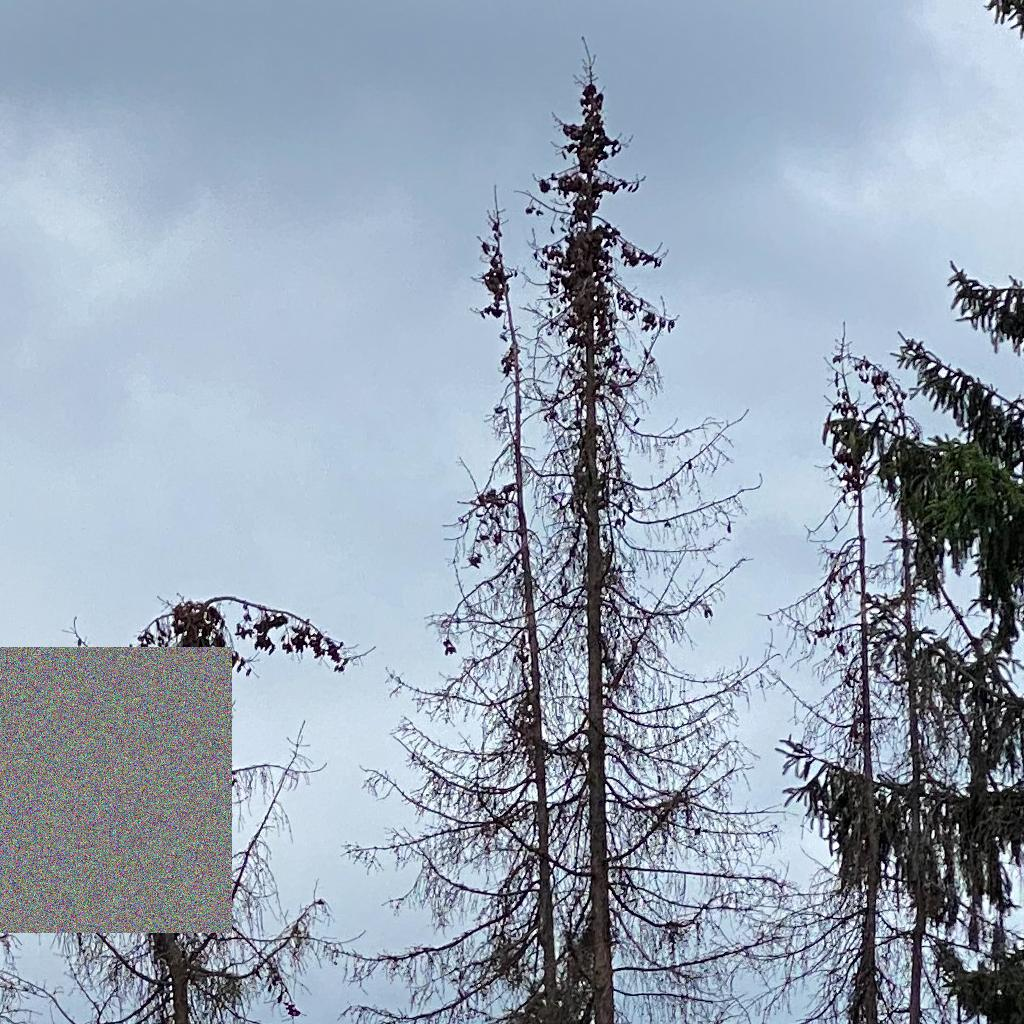tree: (466, 37, 790, 1024), (330, 185, 706, 1024), (774, 1, 1024, 1024), (1, 593, 376, 1024), (836, 354, 980, 1024), (772, 321, 908, 1024)
